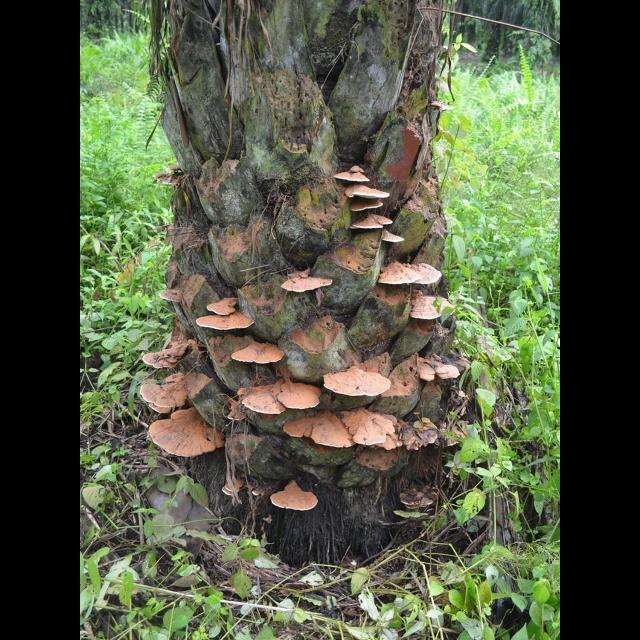ganoderma: (150, 408, 227, 459), (284, 411, 358, 450), (340, 408, 398, 447), (324, 369, 393, 398), (142, 373, 189, 415), (379, 263, 443, 288), (270, 483, 318, 512), (279, 382, 325, 411), (239, 389, 288, 416), (232, 342, 287, 365), (411, 296, 457, 321), (282, 271, 333, 293), (404, 421, 440, 451), (197, 315, 255, 332), (144, 345, 183, 369), (375, 419, 403, 452), (401, 487, 439, 511), (350, 214, 394, 231), (346, 186, 391, 201), (153, 166, 185, 186), (335, 167, 372, 184), (208, 298, 241, 317), (438, 364, 463, 381), (228, 402, 248, 422), (352, 201, 385, 213), (418, 364, 437, 383), (223, 481, 245, 497), (383, 232, 407, 245), (160, 291, 184, 304), (433, 101, 458, 113), (254, 489, 267, 498)
